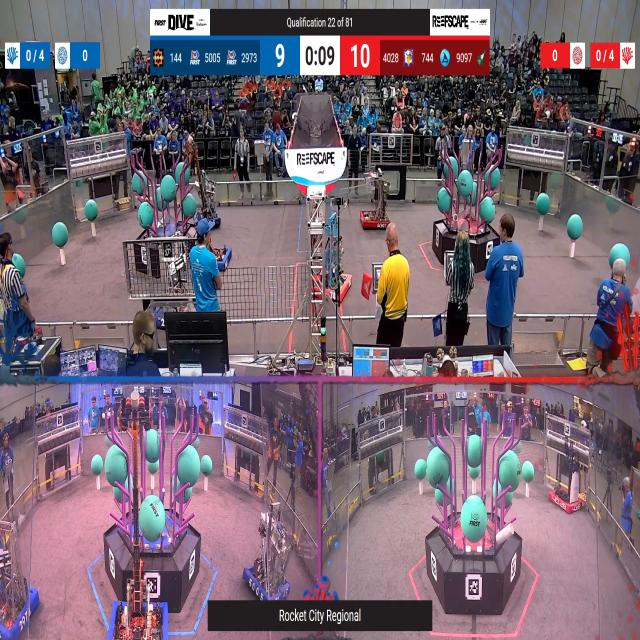scoreboard: (150, 36, 490, 74)
